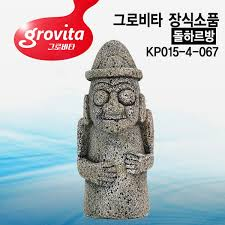Stone Statue: (68, 34, 161, 221)
